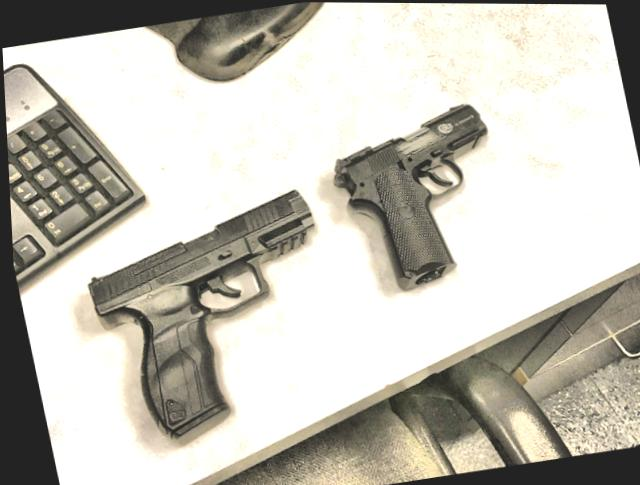pistol: (64, 183, 352, 448), (315, 96, 520, 300)
